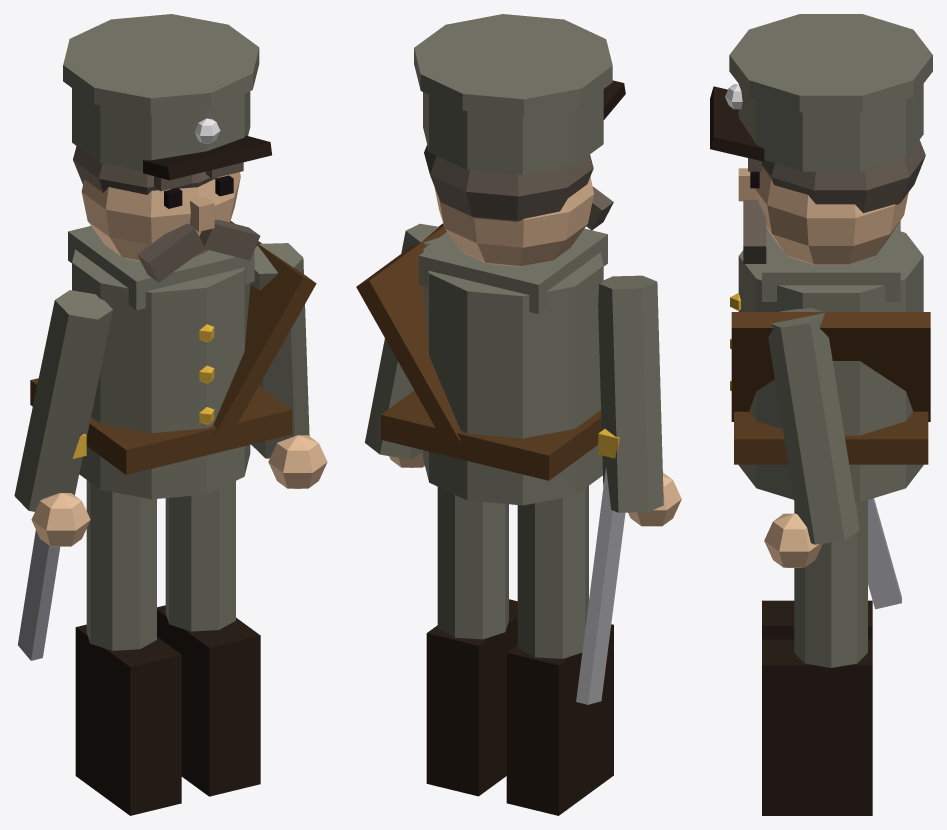
File: postac_pilsudski.glb
3 renders of one model, left to right at view 1: azimuth 30°, elevation 25°; view 2: azimuth 150°, elevation 25°; view 3: azimuth 270°, elevation 25°, orthographic.
Visible parts, largest first — view 1: cialo, noga_l, noga_p, reka_l, reka_p; view 2: cialo, noga_l, noga_p, reka_l, reka_p; view 3: cialo, noga_p, reka_p, noga_l.
Part boxes in pixels (x1,y1,x2,y2): cialo: (18,14,316,660); noga_l: (75,480,181,815); noga_p: (157,481,260,796); reka_l: (14,290,112,546); reka_p: (250,243,327,488); cialo: (356,14,625,704); noga_l: (506,486,613,815); noga_p: (426,487,517,796); reka_l: (598,275,681,526); reka_p: (365,223,438,467); cialo: (710,14,932,609); noga_p: (762,500,872,815); reka_p: (764,308,859,567); noga_l: (762,600,872,639).
Size of the model in its own units: 0.7126 by 1.74 by 0.4818.
